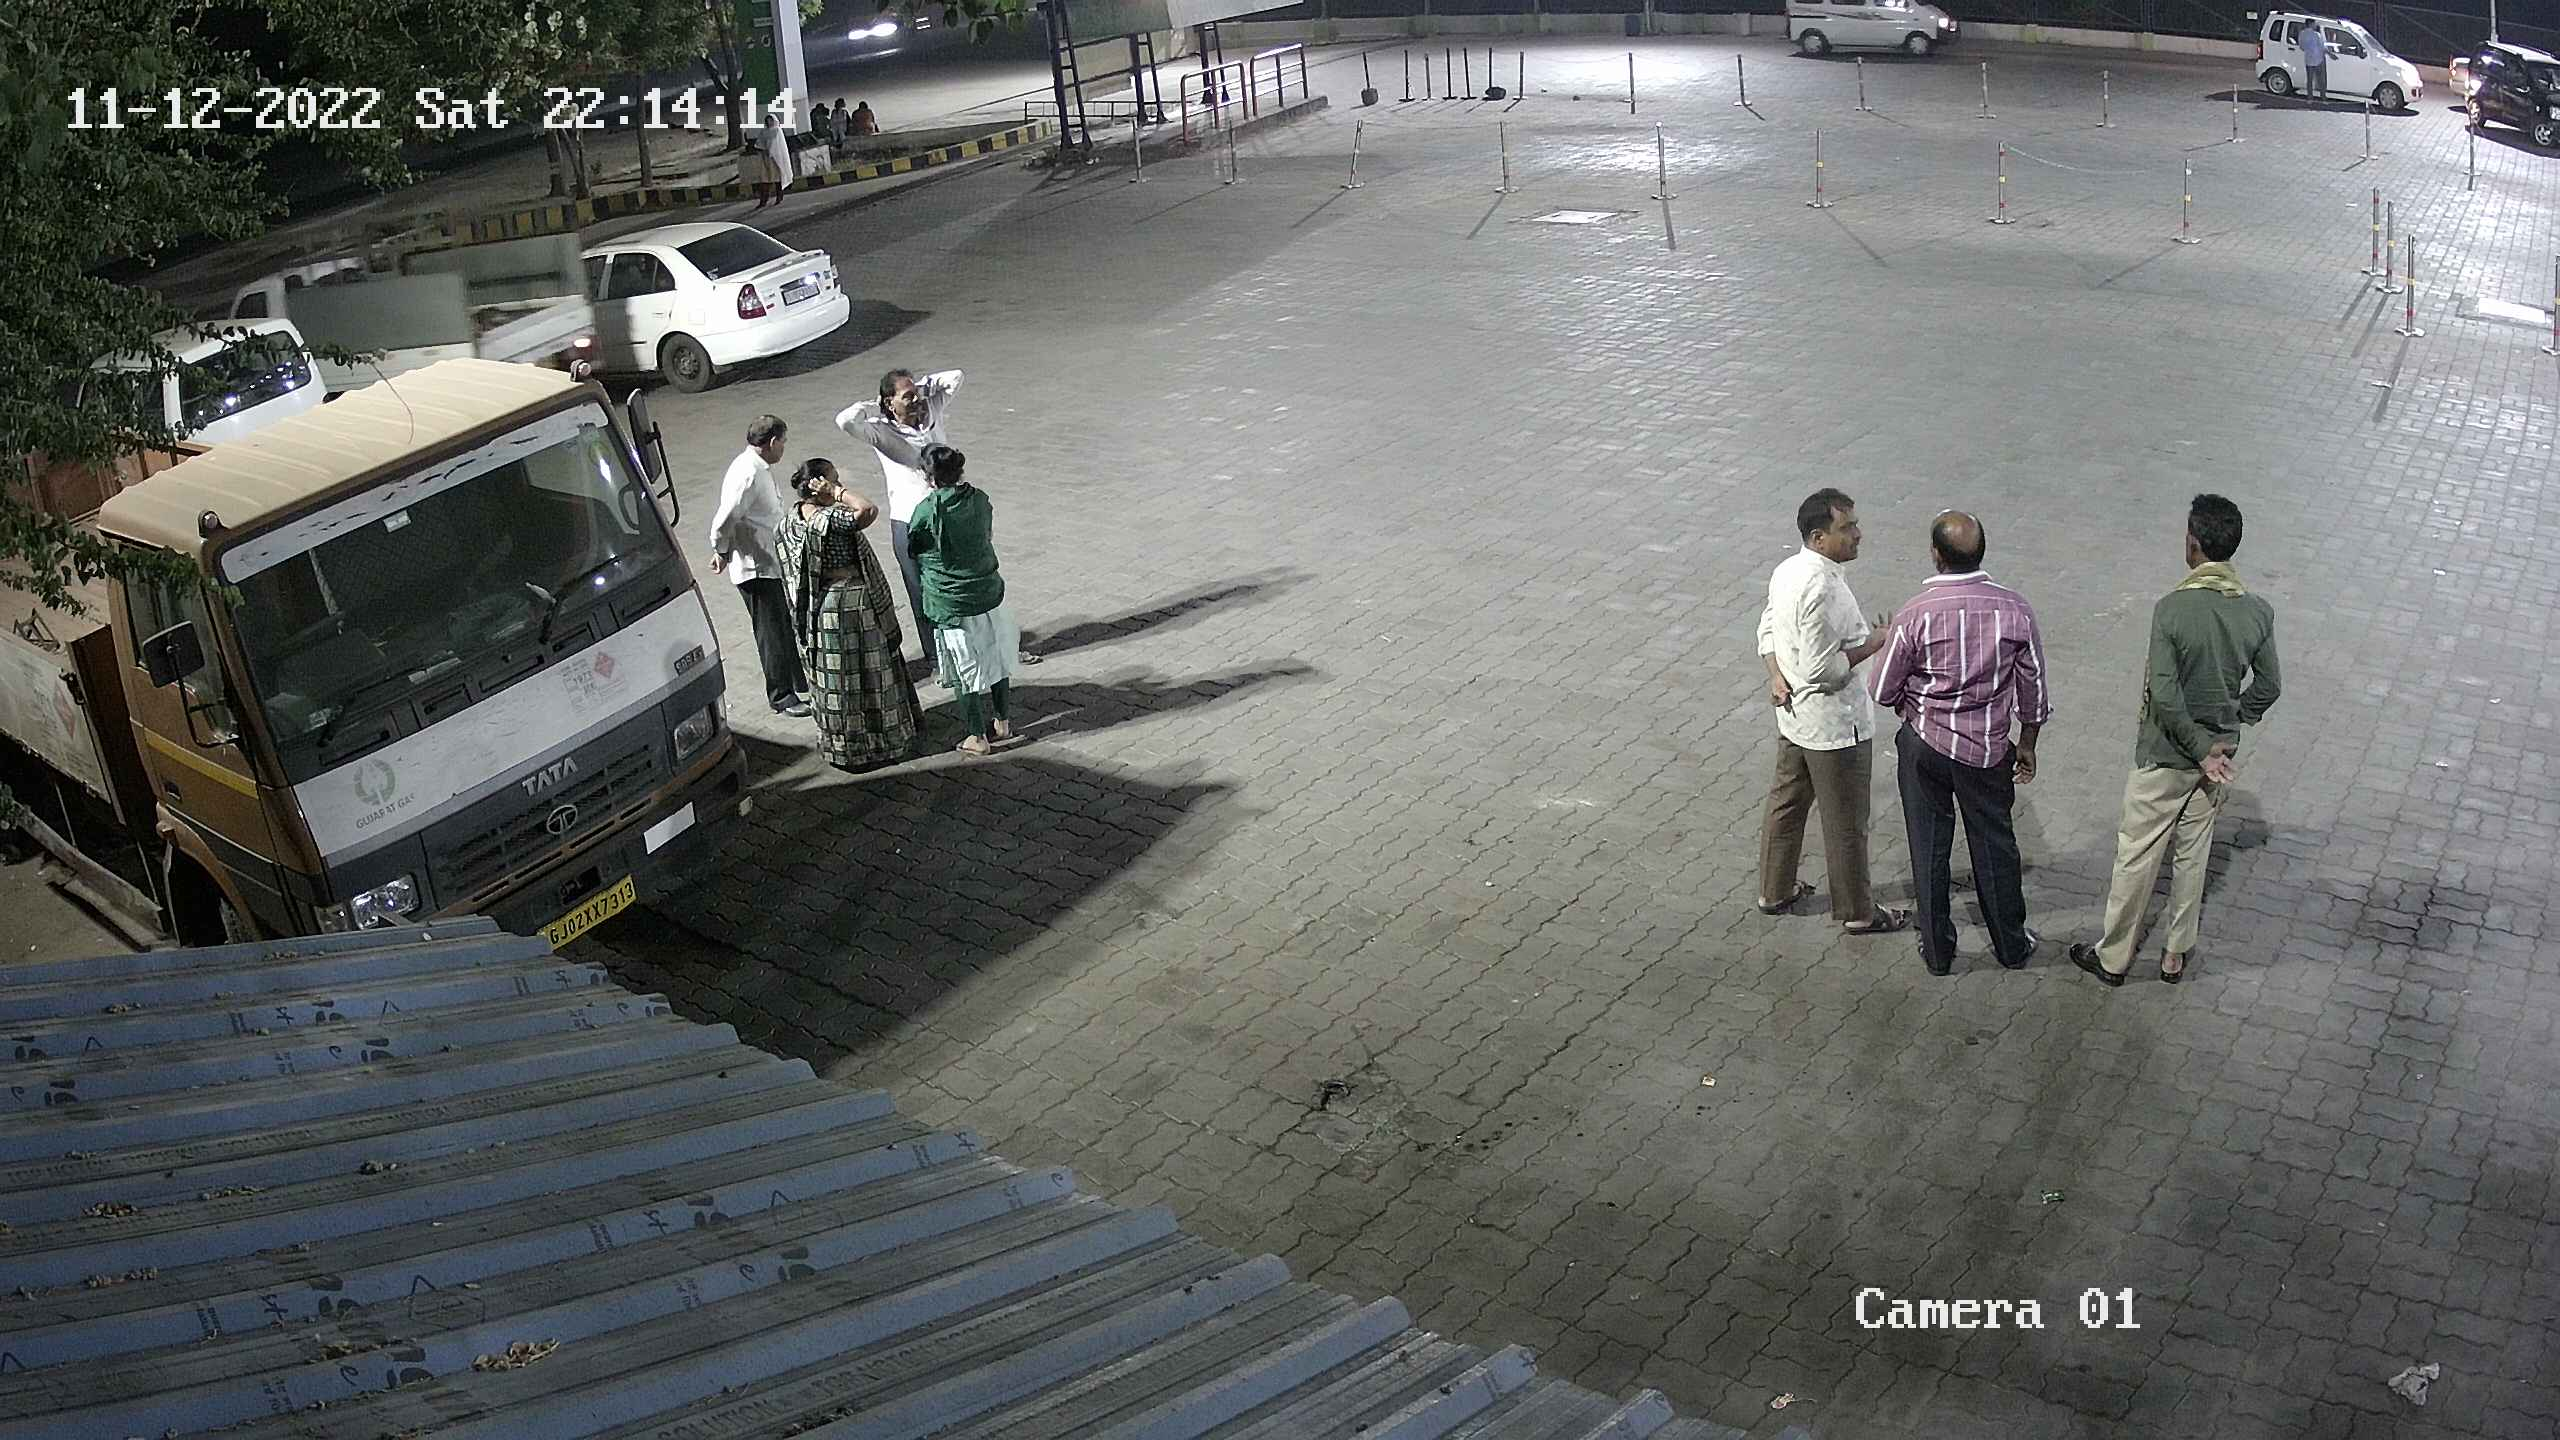Car: (204, 207, 612, 411), (568, 206, 862, 401), (49, 306, 345, 452), (2238, 0, 2428, 128), (2449, 26, 2556, 171), (1767, 0, 1962, 72)
HMV: (4, 343, 765, 971)
